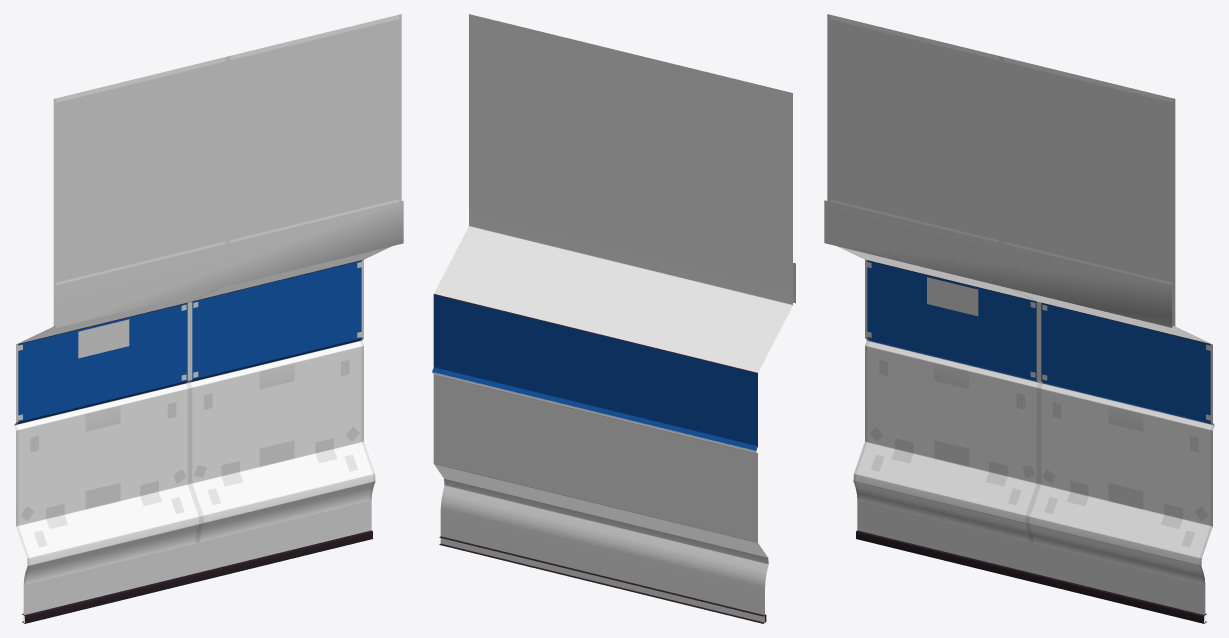
Rendered from WallDecals.fbx.
3 views of the same model, side by side, from view 1: azimuth 30°, elevation 25°; view 2: azimuth 150°, elevation 25°; view 3: azimuth 330°, elevation 25° (orthographic). The views are drawn at different scales.
Visible parts, largest first — view 1: Cube.002, StylizedHardSurface_TrimDecals_006.003_projected, StylizedHardSurface_TrimDecals_003.002, StylizedHardSurface_Panels_003.003, StylizedHardSurface_Panels_002.002, StylizedHardSurface_Decals_032.001_projected, StylizedHardSurface_Decals_056.001_projected, StylizedHardSurface_Decals_044.001_projected, StylizedHardSurface_Decals_044.002_projected, StylizedHardSurface_Decals_027.002_projected, StylizedHardSurface_Decals_027.001_projected; view 2: Cube.002; view 3: Cube.002, StylizedHardSurface_TrimDecals_006.003_projected, StylizedHardSurface_TrimDecals_003.002, StylizedHardSurface_Panels_003.003, StylizedHardSurface_Panels_002.002, StylizedHardSurface_Decals_032.001_projected, StylizedHardSurface_Decals_056.001_projected, StylizedHardSurface_Decals_044.001_projected, StylizedHardSurface_Decals_044.002_projected, StylizedHardSurface_Decals_027.002_projected, StylizedHardSurface_Decals_027.001_projected.
Boxes of the visible parts, x1,y1,x2,y2 form: Cube.002: [16, 14, 399, 623]; StylizedHardSurface_TrimDecals_006.003_projected: [55, 19, 400, 282]; StylizedHardSurface_TrimDecals_003.002: [55, 200, 403, 327]; StylizedHardSurface_Panels_003.003: [23, 500, 371, 614]; StylizedHardSurface_Panels_002.002: [14, 14, 401, 622]; StylizedHardSurface_Decals_032.001_projected: [85, 362, 294, 509]; StylizedHardSurface_Decals_056.001_projected: [78, 319, 129, 358]; StylizedHardSurface_Decals_044.001_projected: [46, 438, 337, 528]; StylizedHardSurface_Decals_044.002_projected: [140, 461, 243, 505]; StylizedHardSurface_Decals_027.002_projected: [167, 393, 220, 513]; StylizedHardSurface_Decals_027.001_projected: [30, 359, 357, 547]; Cube.002: [432, 14, 792, 623]; Cube.002: [829, 14, 1212, 623]; StylizedHardSurface_TrimDecals_006.003_projected: [828, 19, 1173, 282]; StylizedHardSurface_TrimDecals_003.002: [824, 200, 1172, 327]; StylizedHardSurface_Panels_003.003: [857, 500, 1205, 614]; StylizedHardSurface_Panels_002.002: [827, 14, 1214, 622]; StylizedHardSurface_Decals_032.001_projected: [934, 362, 1143, 509]; StylizedHardSurface_Decals_056.001_projected: [927, 277, 978, 316]; StylizedHardSurface_Decals_044.001_projected: [891, 438, 1182, 528]; StylizedHardSurface_Decals_044.002_projected: [985, 461, 1088, 505]; StylizedHardSurface_Decals_027.002_projected: [1008, 393, 1061, 513]; StylizedHardSurface_Decals_027.001_projected: [871, 359, 1198, 547].
Bounding box in the file's own units: 401 × 600 × 83.76.
